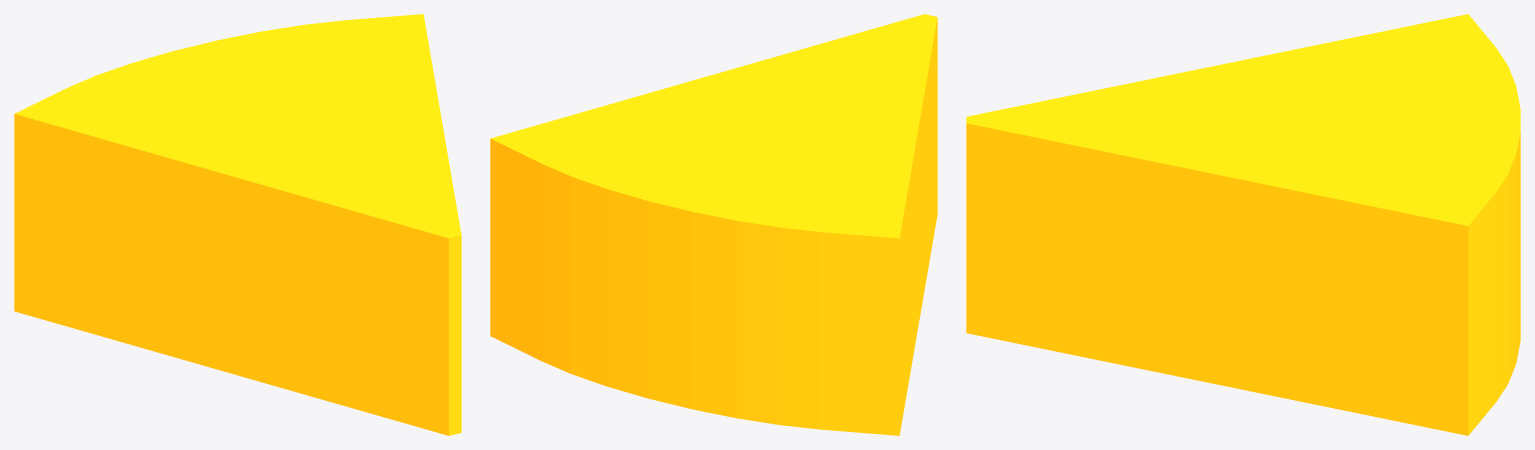
Rendered from signal(2).fbx.
3 views of the same model, side by side, from view 1: azimuth 30°, elevation 25°; view 2: azimuth 150°, elevation 25°; view 3: azimuth 270°, elevation 25° (orthographic). The views are drawn at different scales.
Visible parts, largest first — view 1: 平面; view 2: 平面; view 3: 平面.
Boxes of the visible parts, box(x1,y1,x2,y2) form: 平面: box(14, 14, 461, 435); 平面: box(490, 14, 937, 435); 平面: box(966, 14, 1520, 435).
Bounding box in the file's own units: 200 × 92.28 × 221.
